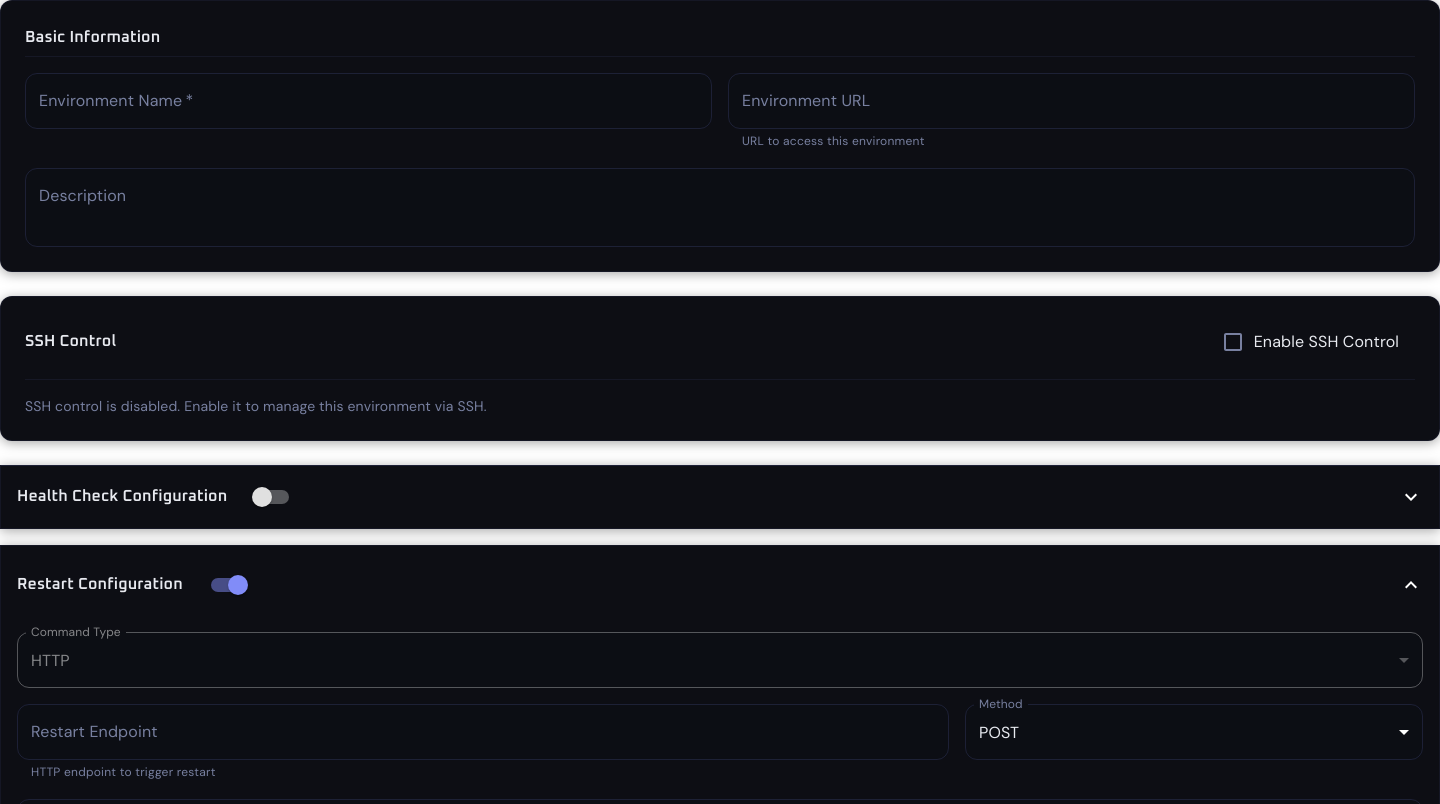
Test: EnvironmentForm › should handle SSH control toggle
Enable SSH control
Click the 1st checkbox labelled "Enable SSH Control" at coordinates (1310, 342), box [1221,330,1399,354]
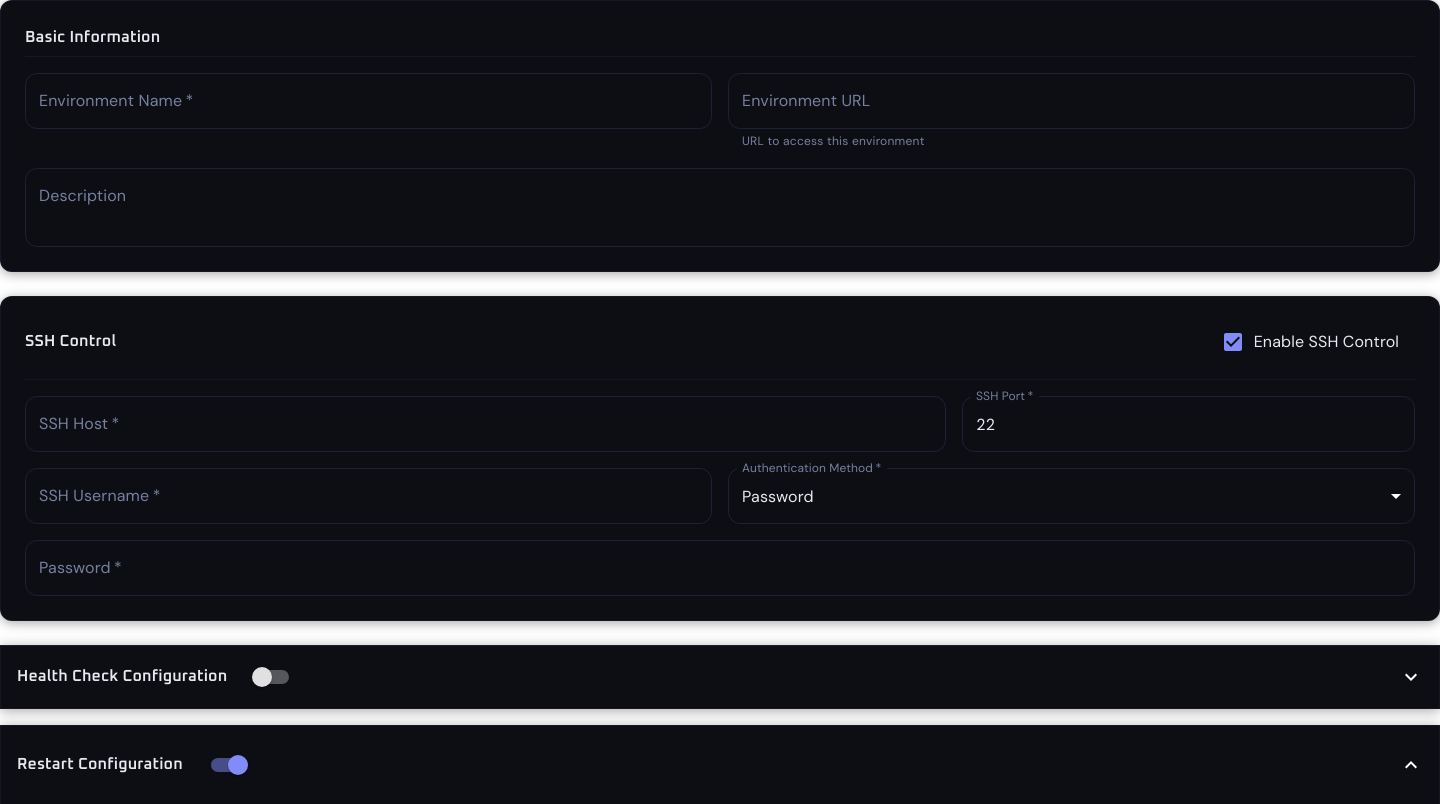
expect the field labelled "SSH Host *" is shown: met, box [25,396,946,452]
expect the number field labelled "SSH Port *" is shown: met, box [962,396,1415,452]
expect the field labelled "SSH Username *" is shown: met, box [25,468,712,524]
